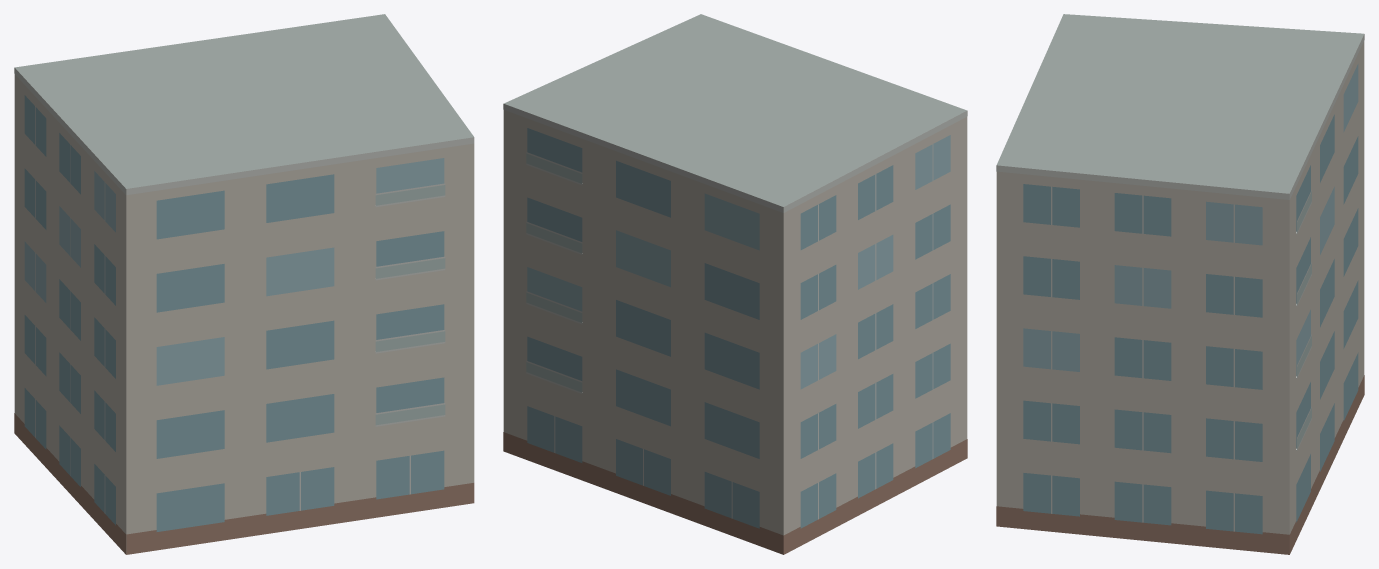
Rendered from survey-upis-32906701.glb.
3 renders of one model, left to right at view 1: azimuth 30°, elevation 25°; view 2: azimuth 150°, elevation 25°; view 3: azimuth 270°, elevation 25°, orthographic. The views are drawn at different scales.
Parts seen in each view (by area): view 1: survey-upis-32906701.tmp; view 2: survey-upis-32906701.tmp; view 3: survey-upis-32906701.tmp.
Boxes of the visible parts, x1,y1,x2,y2 form: survey-upis-32906701.tmp: (14, 14, 474, 554); survey-upis-32906701.tmp: (503, 14, 967, 554); survey-upis-32906701.tmp: (996, 14, 1364, 554).
Size of the model in its own units: 15.18 by 14.2 by 13.13.
